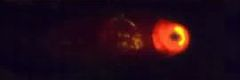keyhole: (168, 30, 183, 43)
